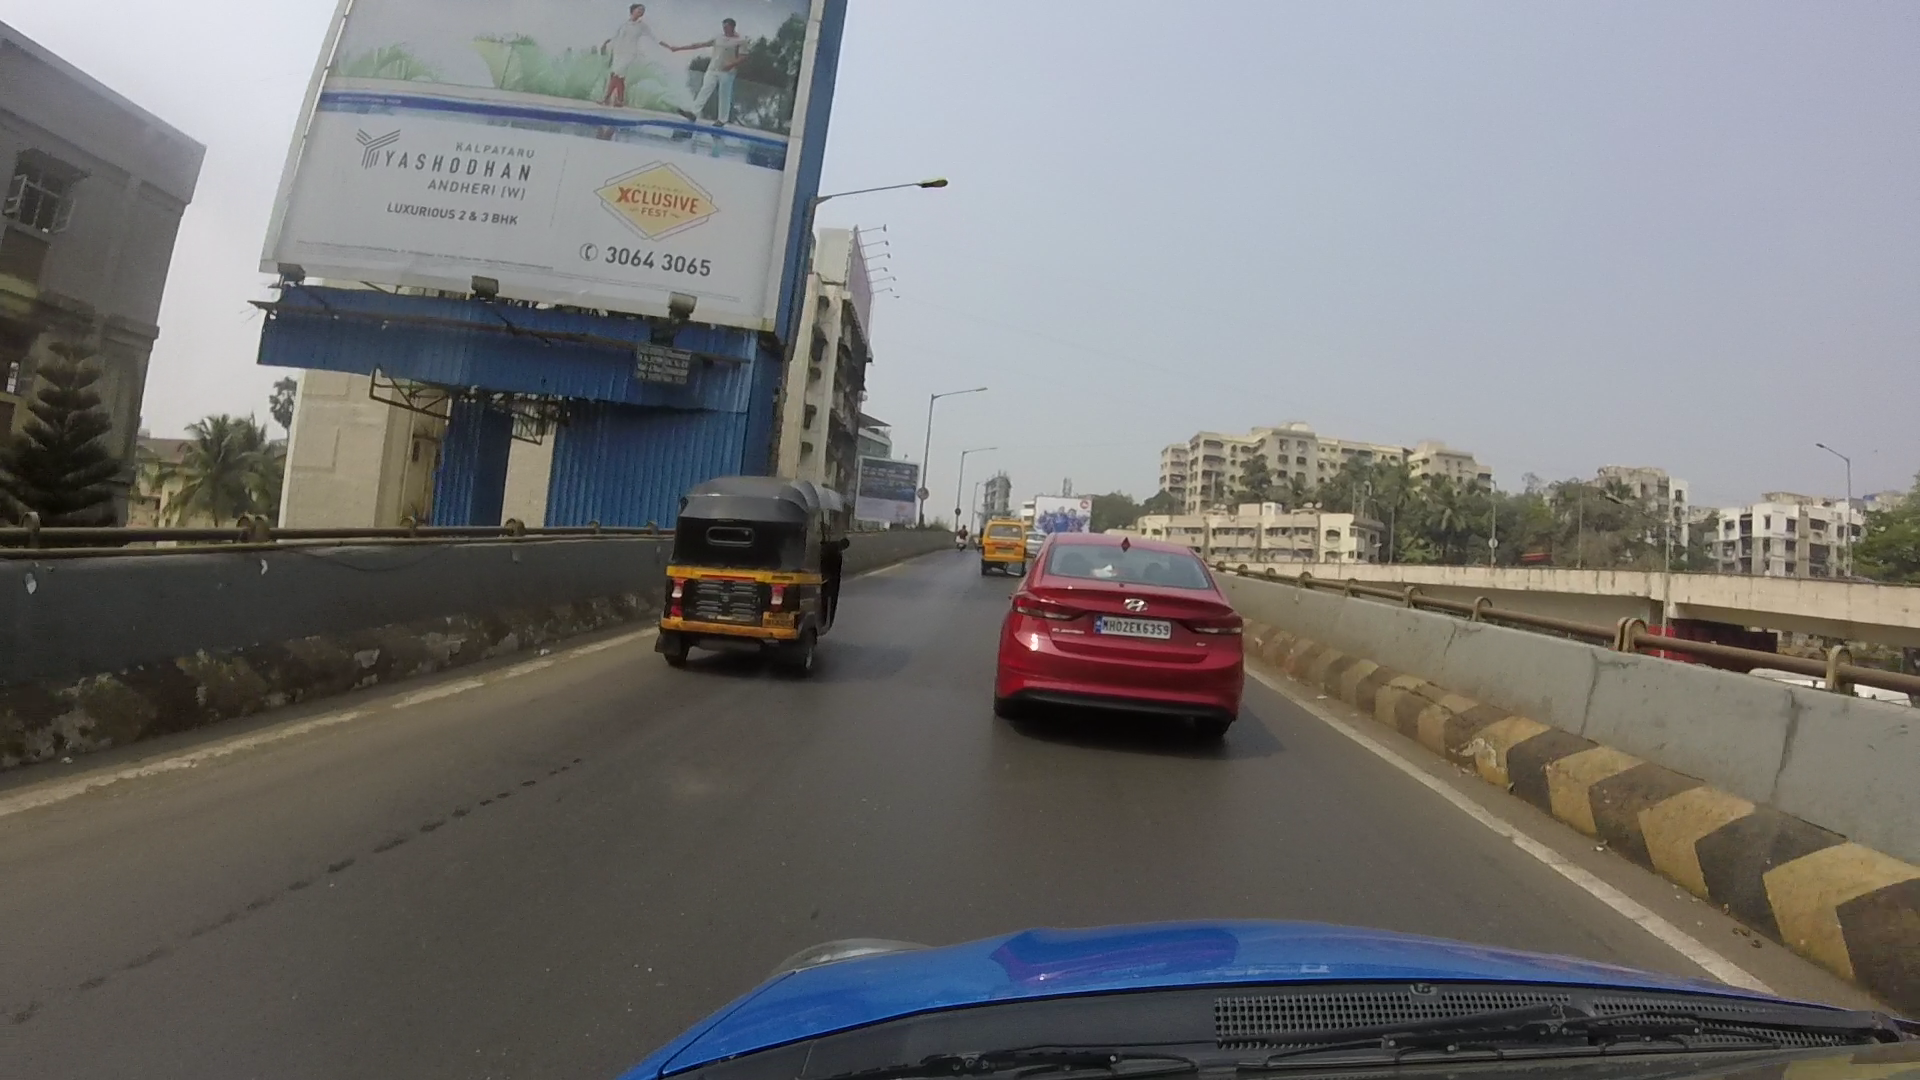car: (977, 527, 1274, 778), (957, 496, 1040, 578)
rickshaw: (641, 477, 851, 673)
